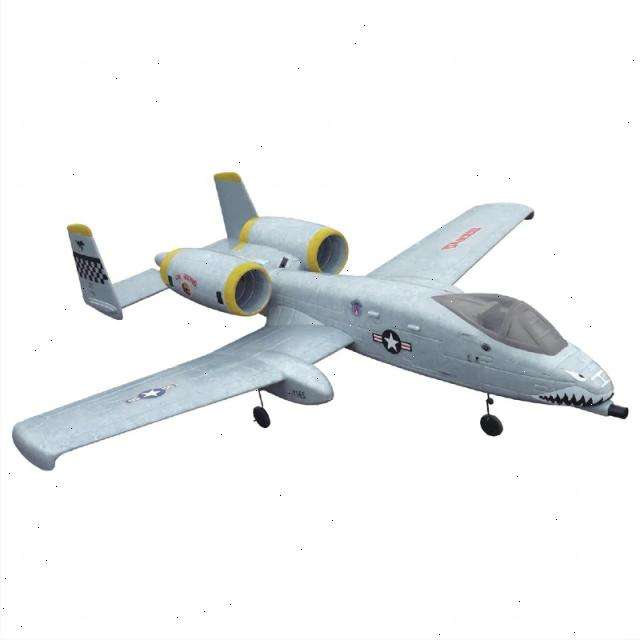A10: (4, 133, 635, 536)
